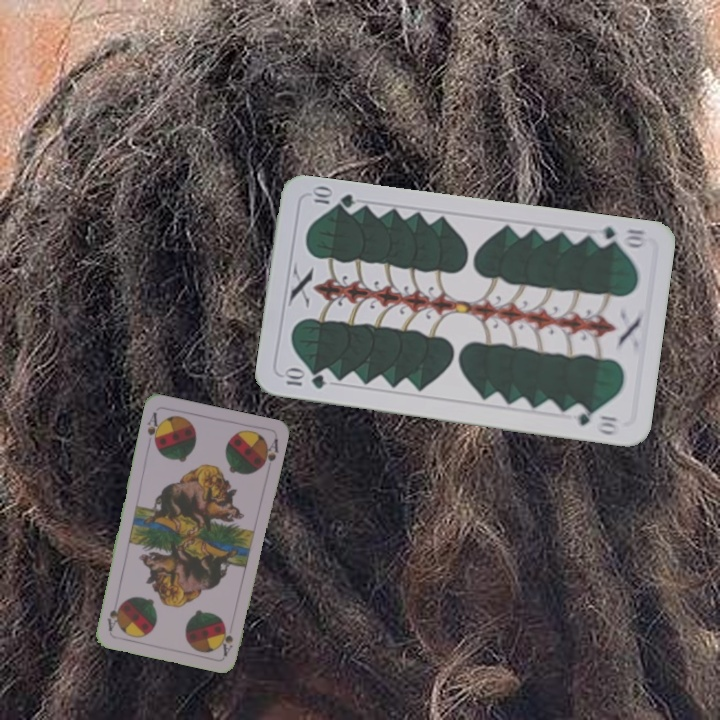G10: (590, 222, 650, 251), (281, 367, 328, 392)
SA: (143, 408, 164, 449), (218, 624, 236, 658)
